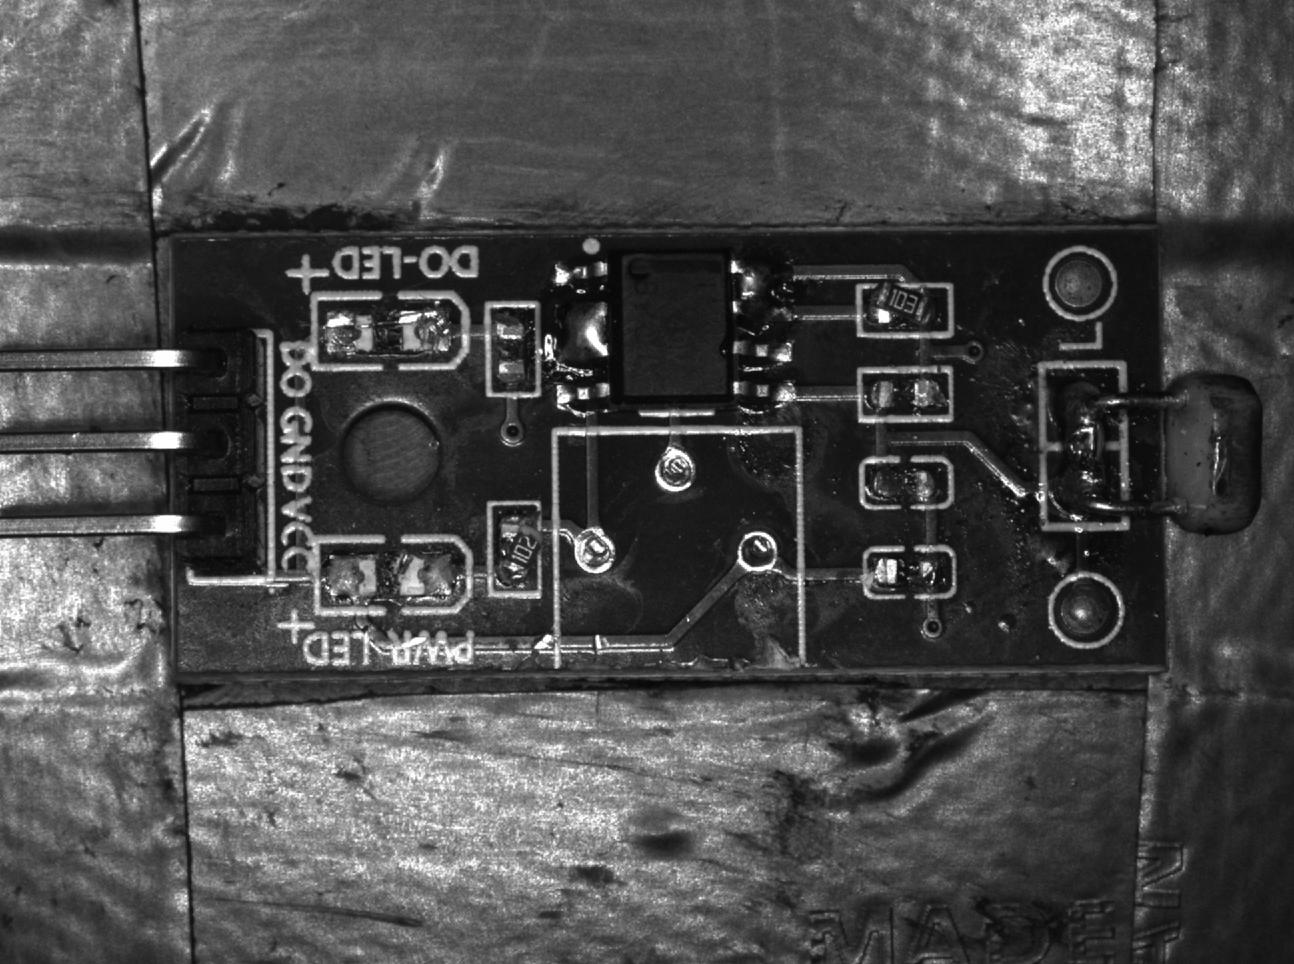bridge: (1036, 361, 1128, 535), (549, 294, 612, 367), (734, 259, 790, 327)
lifted: (486, 500, 546, 601), (857, 282, 950, 333)
miss: (864, 363, 951, 423), (489, 300, 540, 400), (860, 458, 951, 511), (864, 544, 955, 596)
